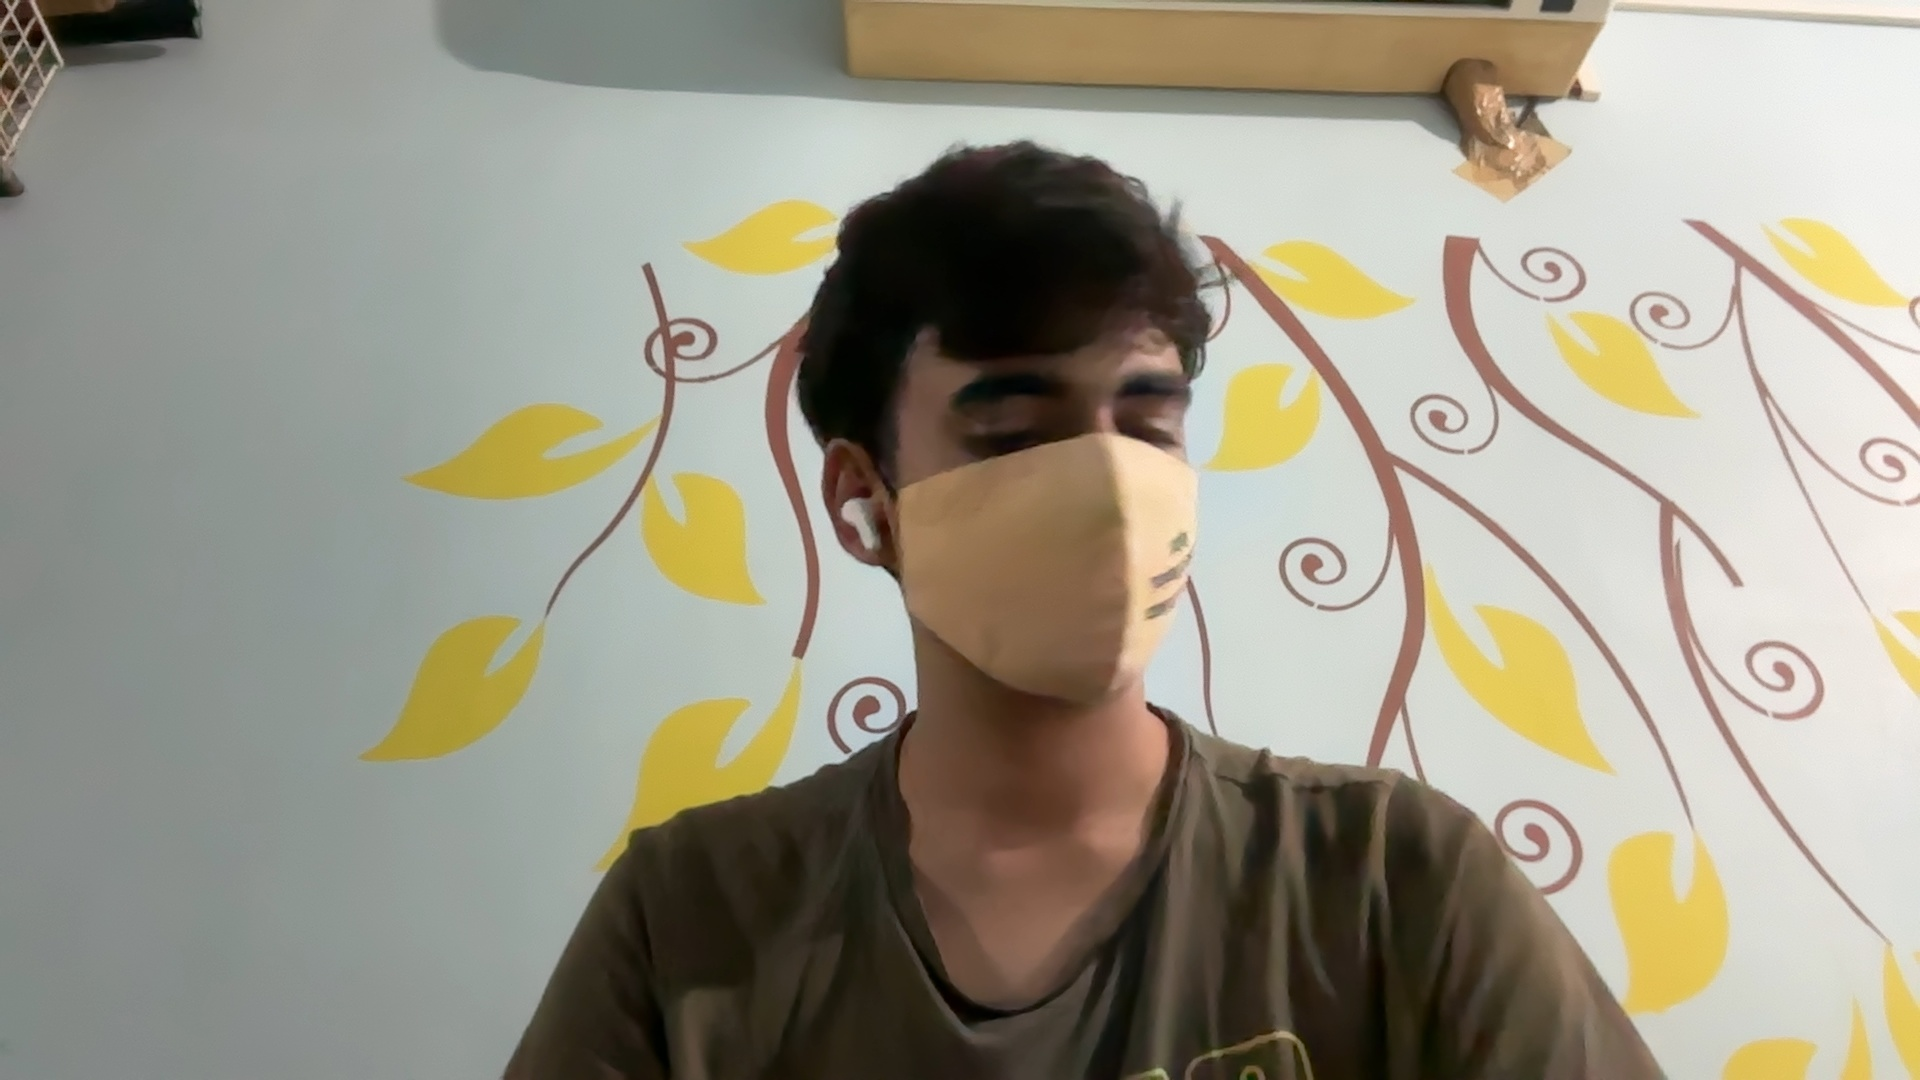Mask: (890, 441, 1228, 720)
